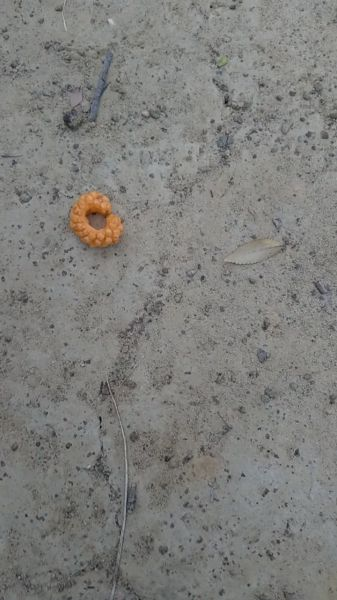eggs: (70, 186, 126, 250)
